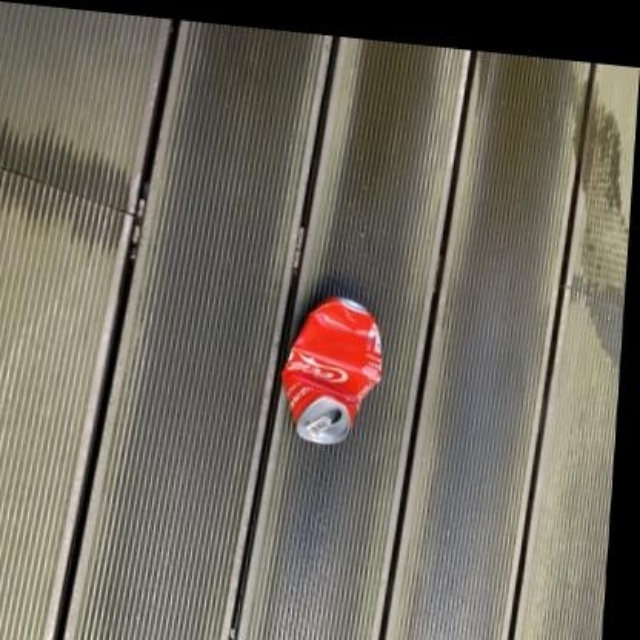trash: (282, 297, 380, 443)
